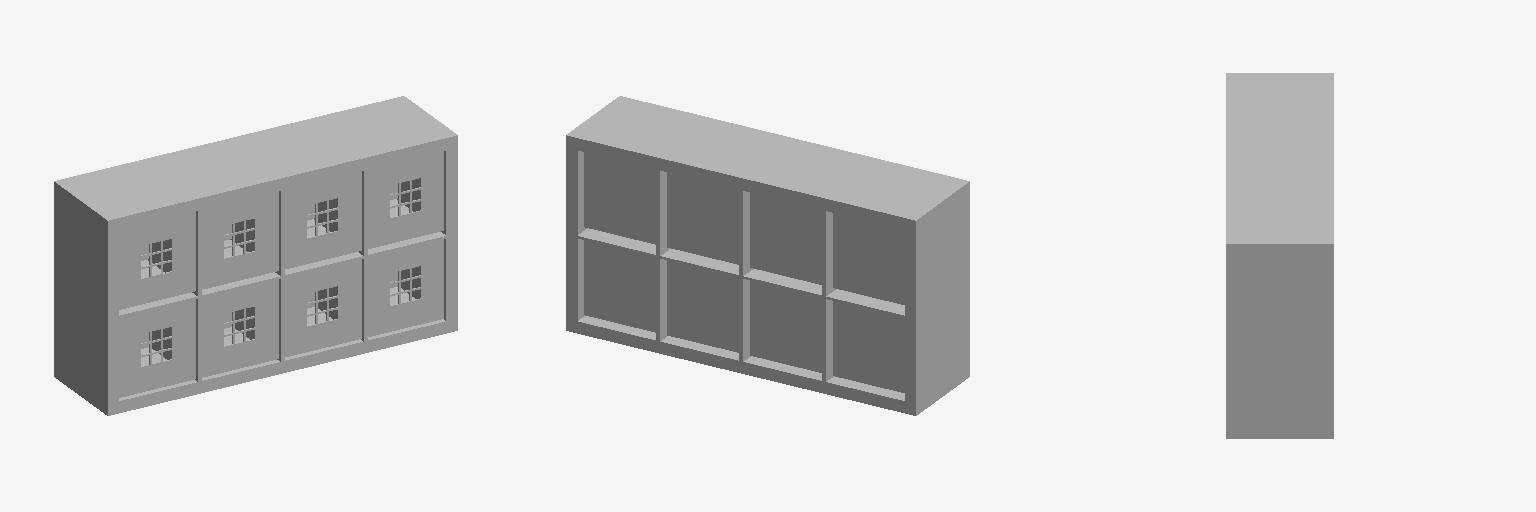
Rendered from shelve_2.obj.
The picture shows the model from 3 angles: view 1: azimuth 30°, elevation 25°; view 2: azimuth 150°, elevation 25°; view 3: azimuth 270°, elevation 25°; orthographic projection.
Visible parts, largest first — view 1: shelve_Cube.003, shelves.001_Cube.004; view 2: shelve_Cube.003, shelves.001_Cube.004; view 3: shelve_Cube.003.
Part boxes in pixels (left/top/right/bottom): shelve_Cube.003: left=54, top=96, right=457, bottom=415; shelves.001_Cube.004: left=119, top=151, right=443, bottom=397; shelve_Cube.003: left=566, top=96, right=969, bottom=415; shelves.001_Cube.004: left=584, top=152, right=904, bottom=392; shelve_Cube.003: left=1226, top=73, right=1333, bottom=438.
Bounding box in the file's own units: 1.5 × 0.8 × 0.4.